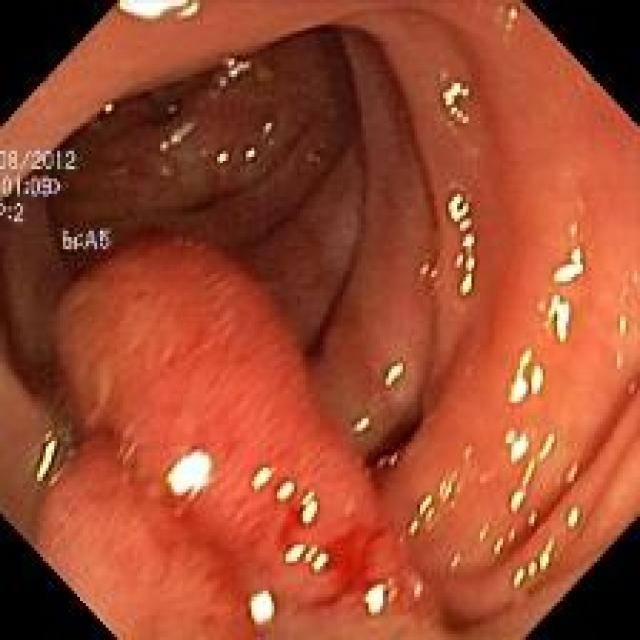Polyps: (38, 240, 448, 638)
